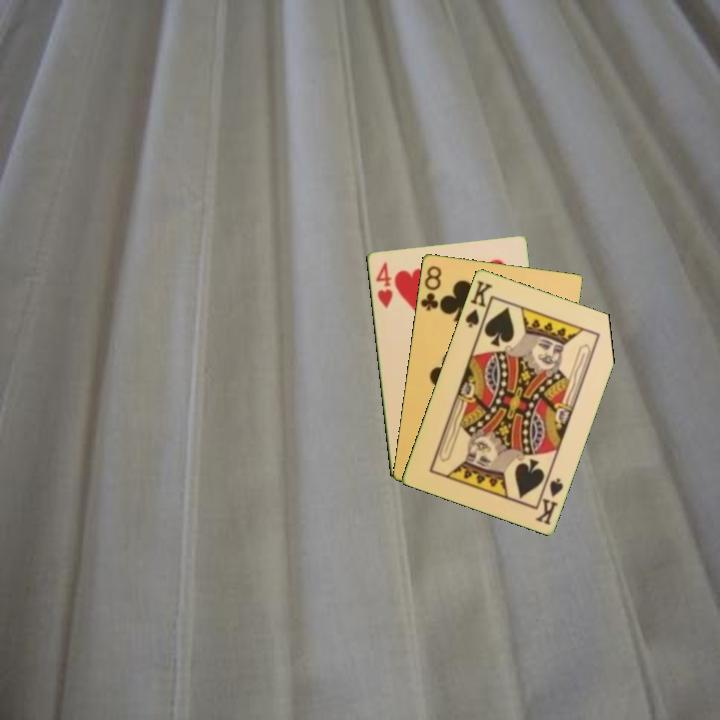4h: (372, 258, 395, 311)
8c: (417, 262, 444, 314)
Ks: (532, 470, 566, 528), (461, 276, 495, 333)
